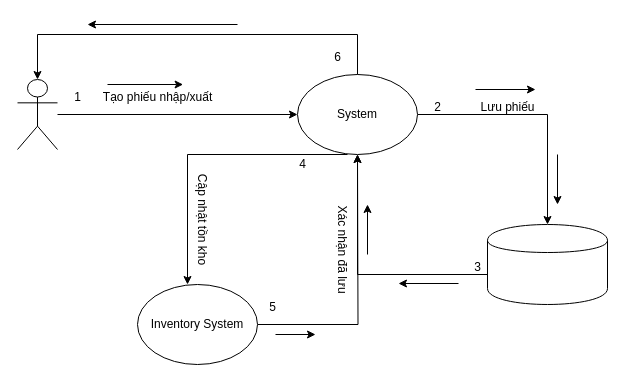
The diagram is 625 pixels wide and 382 high, and some of its shapes have lost their labels. Each missing label, with the centre of its shape:
"Database" goes at (547,264).
"Staff" goes at (37,114).
